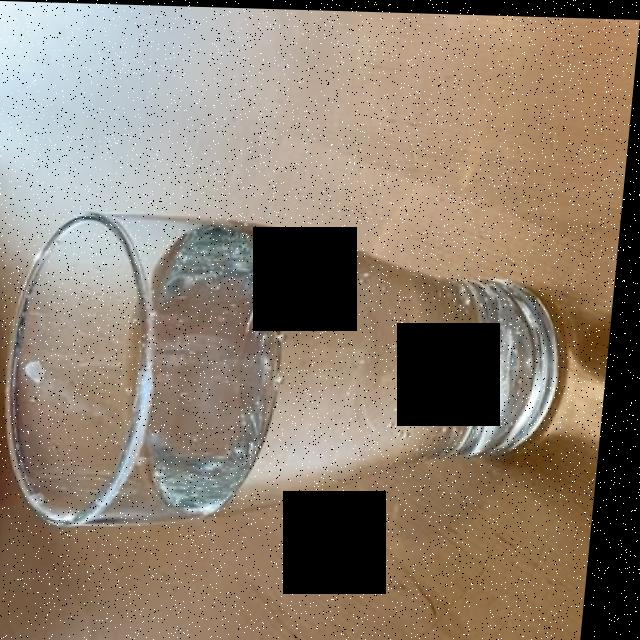water-mineral: (196, 234, 509, 502)
